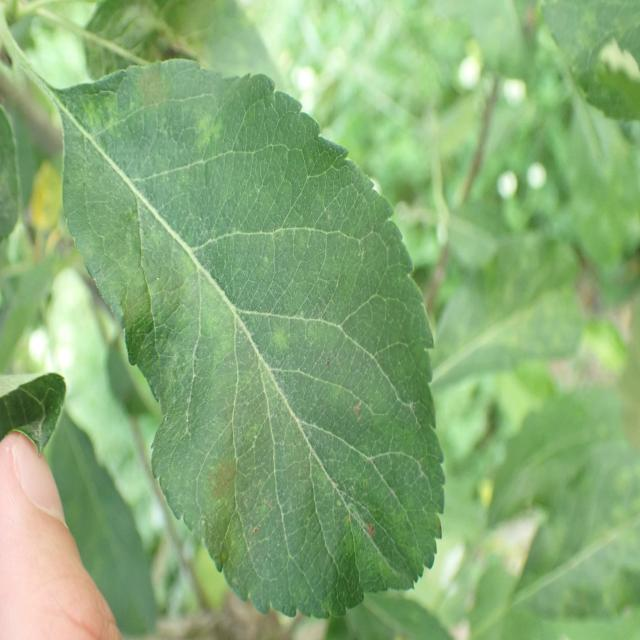scab: (63, 48, 395, 592)
